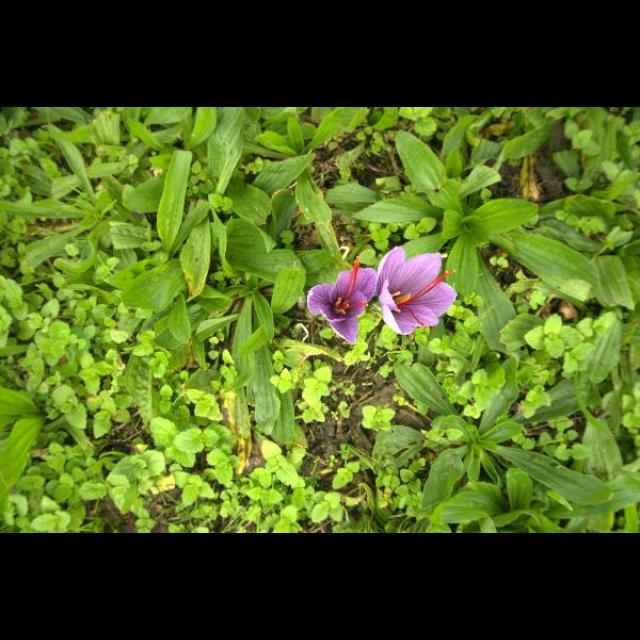flower: (376, 248, 456, 336), (307, 260, 378, 346)
